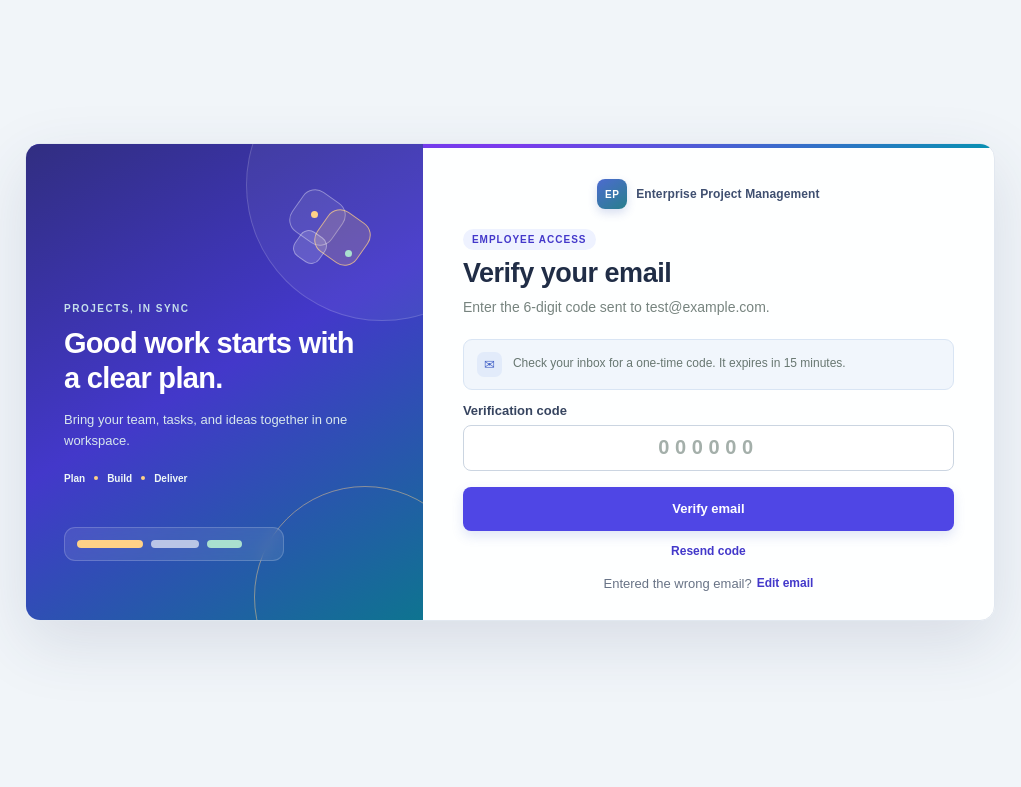
Scenario: registration and email verification flow › restores pending verification after refresh and allows editing the email
This screenshot has width=1021, height=787.
Check: the text "Enter the 6-digit code sent to test@example.com." is shown, box [463,299,770,315]
Click the button "Edit email" at [785, 583], box [757,576,813,591]
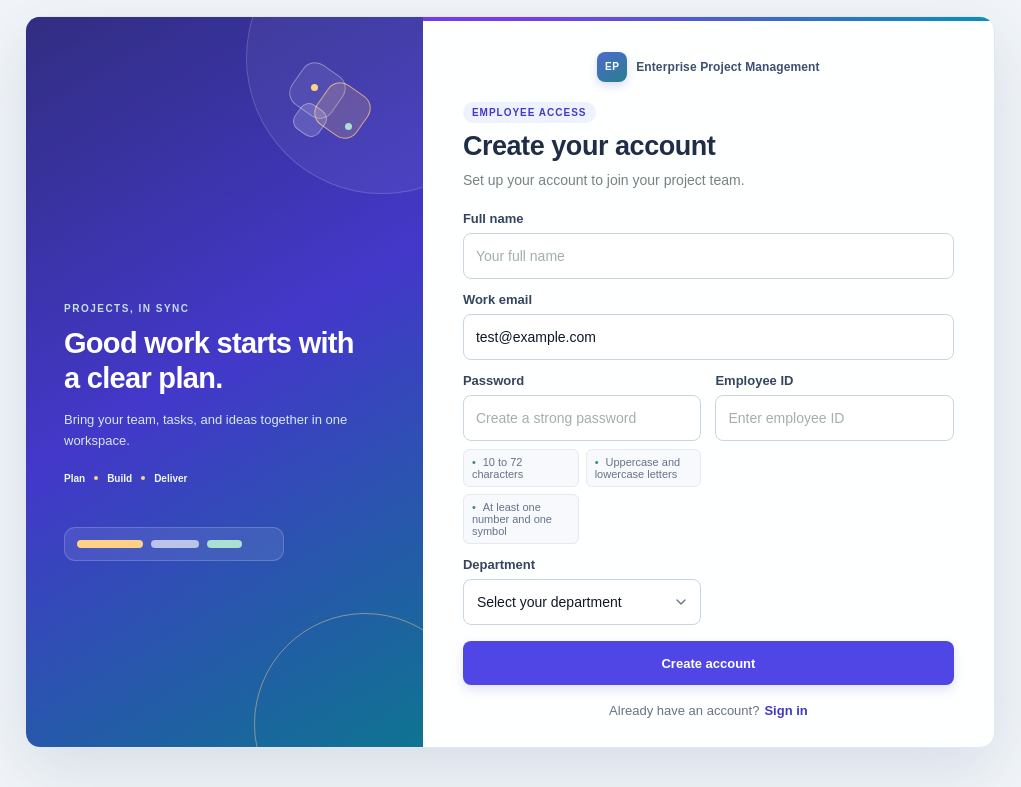
Check: the field labelled "Work email" holds "test@example.com", box [463,314,954,360]
